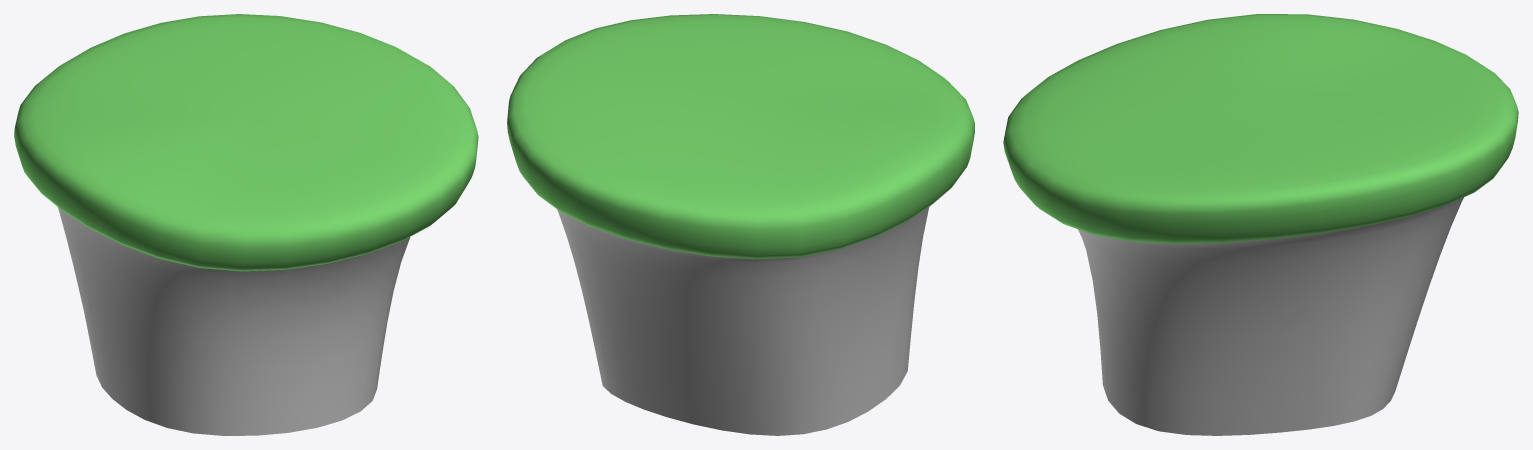
File: GreenHillMesa.fbx
3 views of the same model, side by side, from view 1: azimuth 30°, elevation 25°; view 2: azimuth 150°, elevation 25°; view 3: azimuth 270°, elevation 25° (orthographic). The views are drawn at different scales.
Visible parts, largest first — view 1: GreenHillMesa; view 2: GreenHillMesa; view 3: GreenHillMesa.
Part boxes in pixels (x1,y1,x2,y2): GreenHillMesa: [14, 14, 478, 435]; GreenHillMesa: [507, 14, 974, 435]; GreenHillMesa: [1003, 14, 1518, 435].
Bounding box in the file's own units: 2.96 × 2.01 × 3.19.
